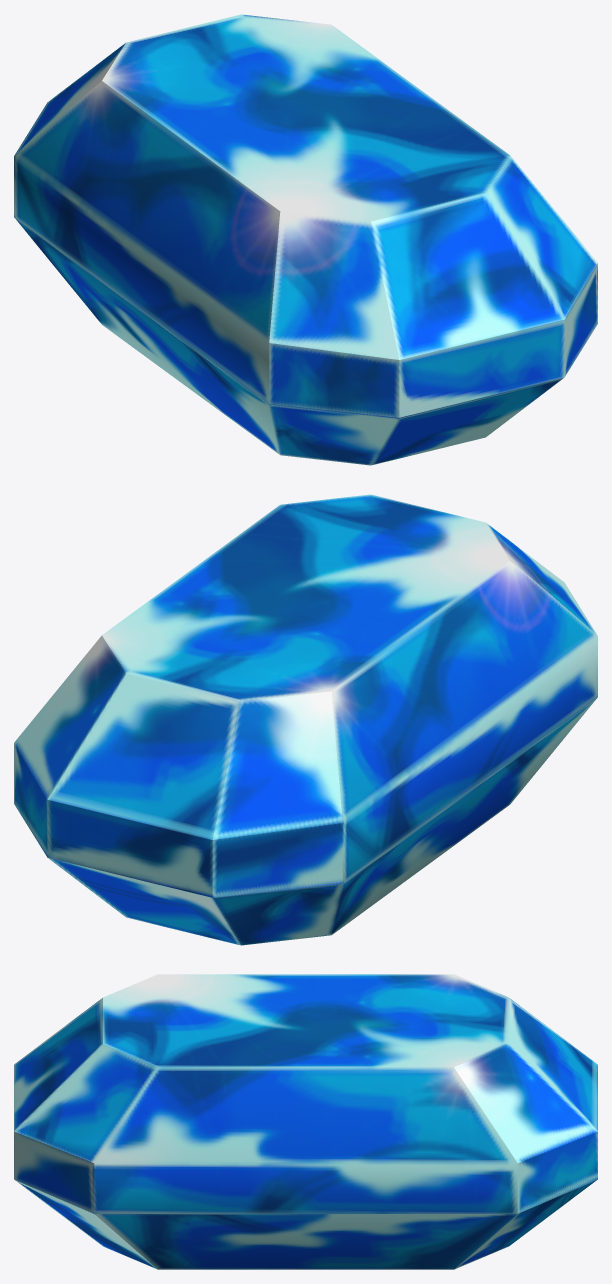
The model's file is stone_darkblue_003.fbx.
The picture shows the model from 3 angles, top to bottom: view 1: azimuth 30°, elevation 25°; view 2: azimuth 150°, elevation 25°; view 3: azimuth 270°, elevation 25°; orthographic projection. The views are drawn at different scales.
Visible parts, largest first — view 1: stone; view 2: stone; view 3: stone.
Part boxes in pixels (bbox=[...]): stone: bbox=[14, 14, 597, 465]; stone: bbox=[14, 494, 597, 945]; stone: bbox=[14, 974, 597, 1269].
Size of the model in its own units: 4.53 by 3.21 by 8.4.
